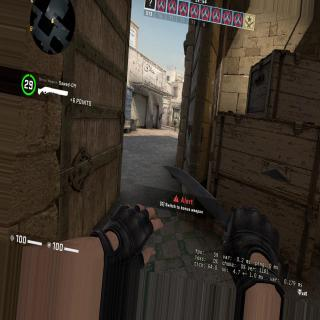CT-Body: (173, 118, 177, 132)
CT-Head: (175, 119, 177, 121)
